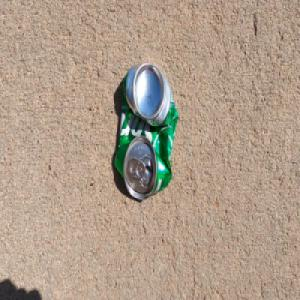SodaCan: (113, 57, 178, 203)
